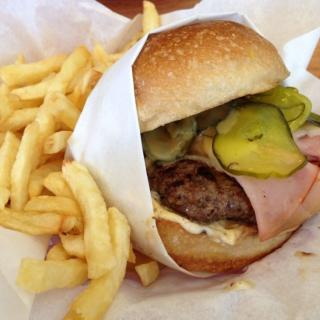French fries: (0, 0, 163, 319)
Hamburger: (133, 20, 319, 274)
